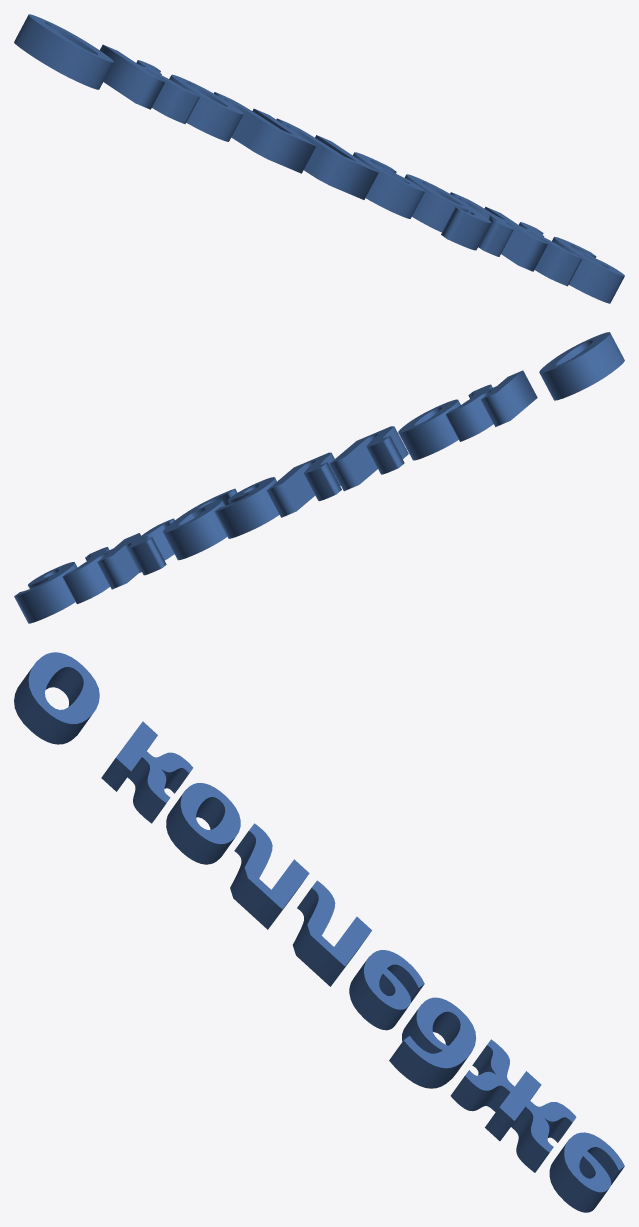
Rendered from about.glb.
The picture shows the model from 3 angles, top to bottom: view 1: azimuth 30°, elevation 25°; view 2: azimuth 150°, elevation 25°; view 3: azimuth 330°, elevation 25°; orthographic projection.
Parts seen in each view (by area): view 1: Text.002; view 2: Text.002; view 3: Text.002.
Boxes of the visible parts, x1,y1,x2,y2 form: Text.002: [14, 14, 624, 303]; Text.002: [14, 332, 624, 623]; Text.002: [14, 652, 624, 1212].
Bounding box in the file's own units: 5.09 × 3.36 × 0.7612.
